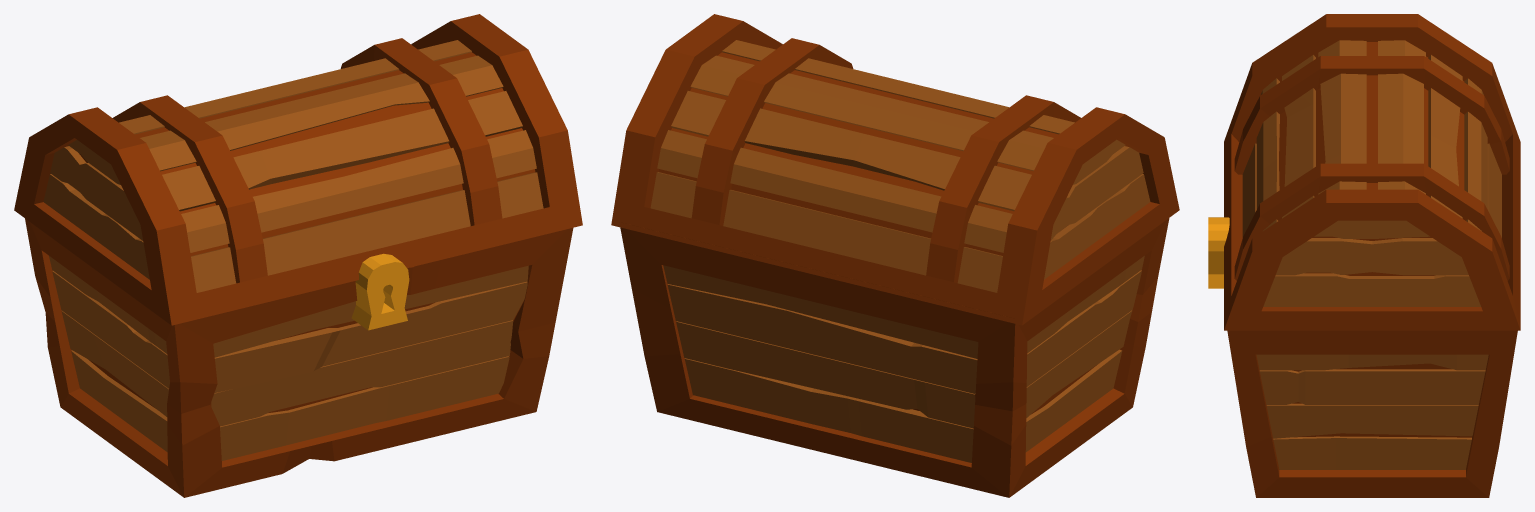
Rendered from chest.glb.
3 renders of one model, left to right at view 1: azimuth 30°, elevation 25°; view 2: azimuth 150°, elevation 25°; view 3: azimuth 270°, elevation 25°, orthographic. The views are drawn at different scales.
Visible parts, largest first — view 1: chest; view 2: chest; view 3: chest.
Part boxes in pixels (x1=…): chest: x1=14, y1=14, x2=582, y2=497; chest: x1=611, y1=14, x2=1179, y2=497; chest: x1=1208, y1=14, x2=1520, y2=497.
Bounding box in the file's own units: 1.33 × 1.01 × 0.9281.
